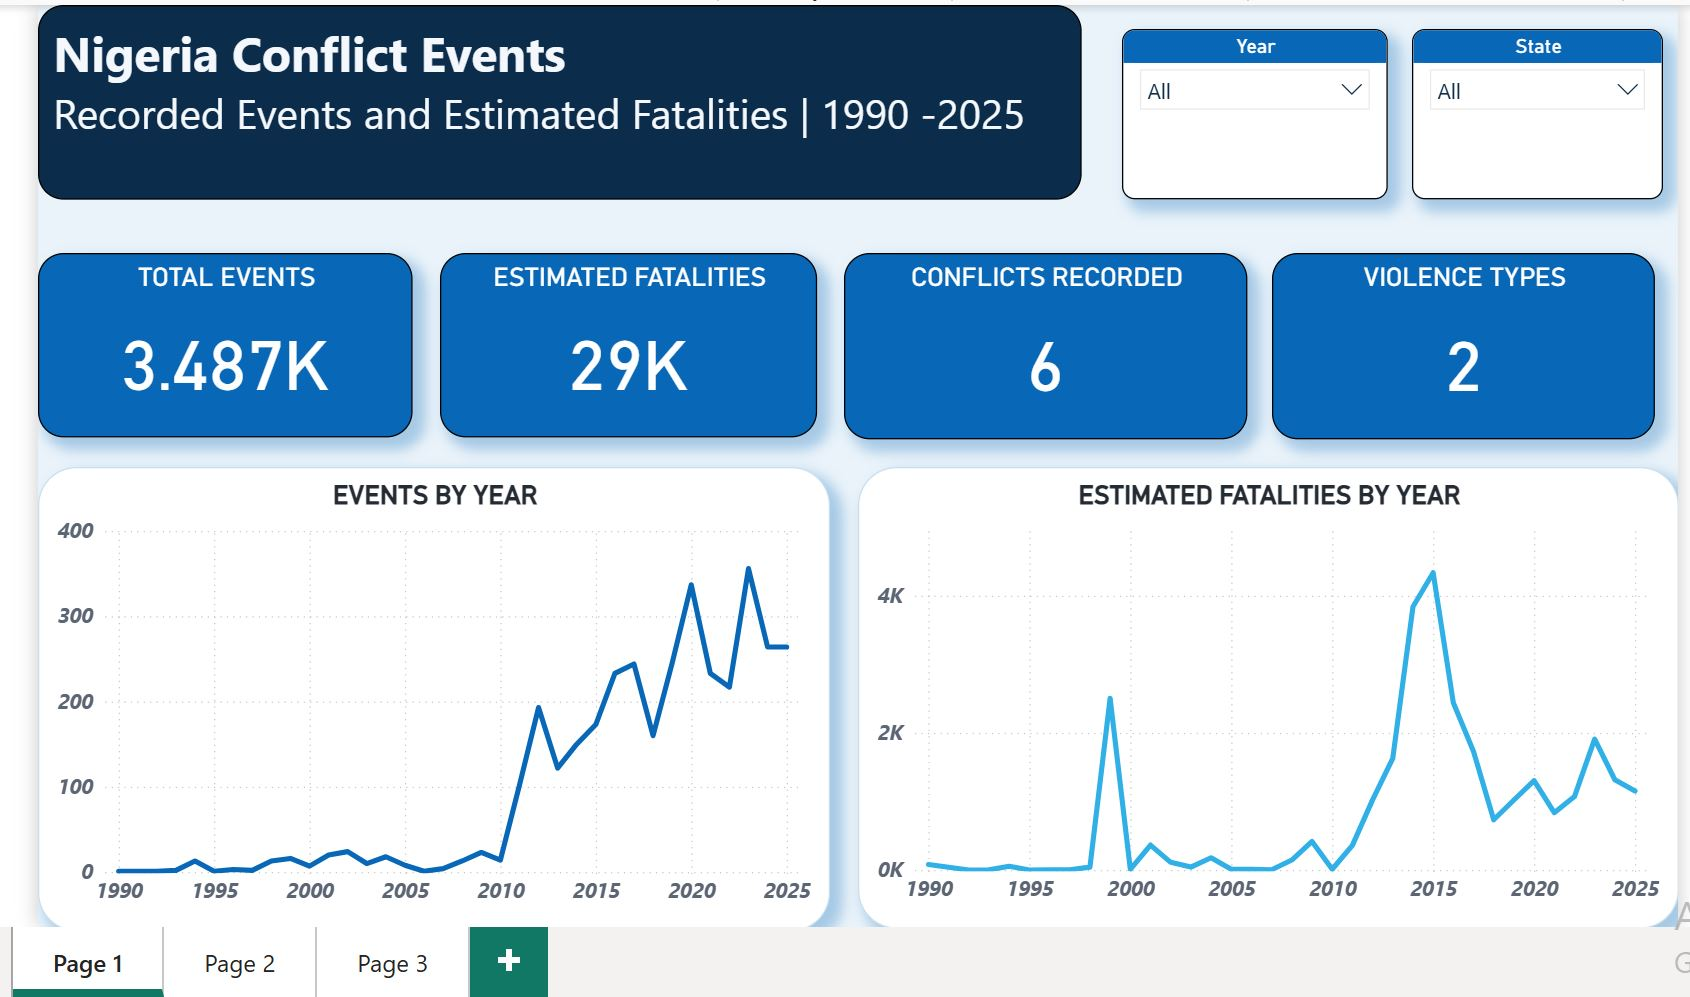

What the dashboard file says about the page in this screenshot:
{"tool":"powerbi","page":{"name":"Page 1","canvas":[1280,720],"ordinal":0},"visuals":[{"type":"cardVisual","title":"TOTAL EVENTS","fields":{"Data":["Count(nigeria_conflict_database nigeria_conflict_events.id)"]},"box":[0,193,292.7,144],"z":0},{"type":"cardVisual","title":"ESTIMATED FATALITIES","fields":{"Data":["Sum(nigeria_conflict_database nigeria_conflict_events.best_fatality_estimate)"]},"box":[313.3,193,294.3,144],"z":1000},{"type":"cardVisual","title":"CONFLICTS RECORDED","fields":{"Data":["CountNonNull(nigeria_conflict_database conflicts.conflict_name)"]},"box":[629.7,193,314.9,145.6],"z":2000},{"type":"cardVisual","title":"VIOLENCE TYPES","fields":{"Data":["CountNonNull(nigeria_conflict_database violence_types.violence_type_name)"]},"box":[963.6,193,299,145.6],"z":3000},{"type":"lineStackedColumnComboChart","title":"EVENTS BY YEAR","fields":{"Category":["nigeria_conflict_database nigeria_conflict_events.year"],"Y2":["CountNonNull(nigeria_conflict_database nigeria_conflict_events.id)"]},"box":[0,360.7,618.6,362.3],"z":4000},{"type":"lineStackedColumnComboChart","title":"ESTIMATED FATALITIES BY YEAR","fields":{"Category":["nigeria_conflict_database nigeria_conflict_events.year"],"Y2":["Sum(nigeria_conflict_database nigeria_conflict_events.best_fatality_estimate)"]},"box":[640.8,360.7,640.8,360.7],"z":5000},{"type":"slicer","title":"Year","fields":{"Values":["nigeria_conflict_database nigeria_conflict_events.year"]},"box":[846.5,19,207.3,132.9],"z":6000},{"type":"textbox","box":[0,0,814.8,151.9],"z":7000},{"type":"slicer","title":"State","fields":{"Values":["nigeria_conflict_database locations.admin_level_1"]},"box":[1072.7,19,196.2,132.9],"z":8000}]}

Visuals, with their boxes on the page's 1280x720 design canvas (x1, y1, x2, y2). These are canvas units, not pixel positions in the 1690x997 screenshot, which may show the page scaled, cropped or inside an application window:
"TOTAL EVENTS" cardVisual: x1=0 y1=193 x2=293 y2=337
"ESTIMATED FATALITIES" cardVisual: x1=313 y1=193 x2=608 y2=337
"CONFLICTS RECORDED" cardVisual: x1=630 y1=193 x2=945 y2=339
"VIOLENCE TYPES" cardVisual: x1=964 y1=193 x2=1263 y2=339
"EVENTS BY YEAR" lineStackedColumnComboChart: x1=0 y1=361 x2=619 y2=723
"ESTIMATED FATALITIES BY YEAR" lineStackedColumnComboChart: x1=641 y1=361 x2=1282 y2=721
"Year" slicer: x1=846 y1=19 x2=1054 y2=152
textbox: x1=0 y1=0 x2=815 y2=152
"State" slicer: x1=1073 y1=19 x2=1269 y2=152
